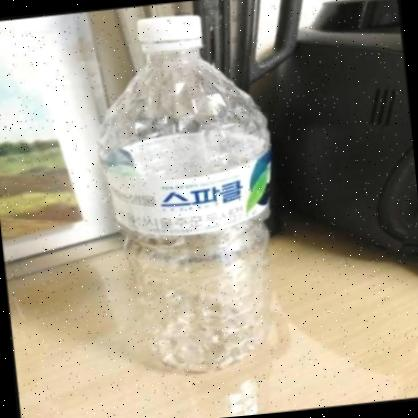bottle: (78, 7, 292, 386)
cap: (135, 12, 205, 54)
label: (98, 126, 276, 240)
